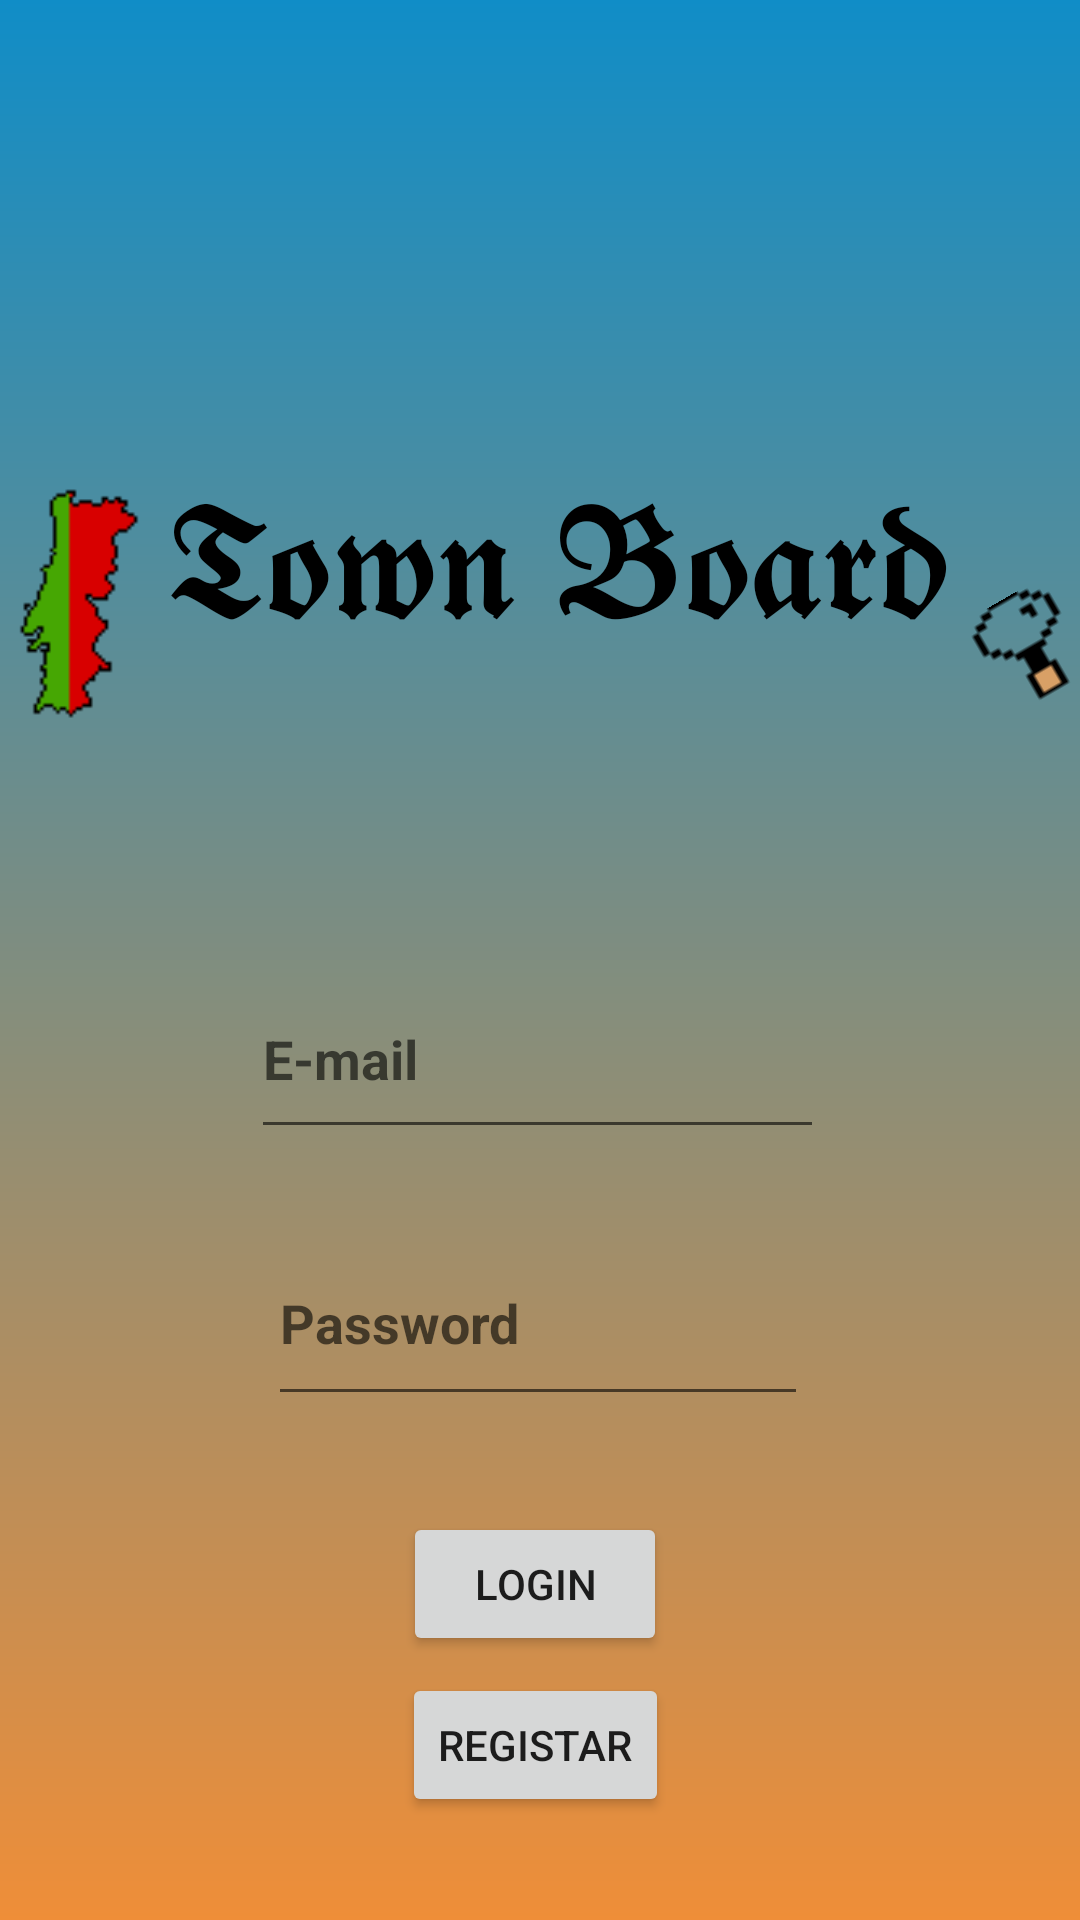

Icons on this 1080 × 1920 Android screen, each with its box as (x1,y1,x2,y2):
portugalpixel: (3,489,168,720)
